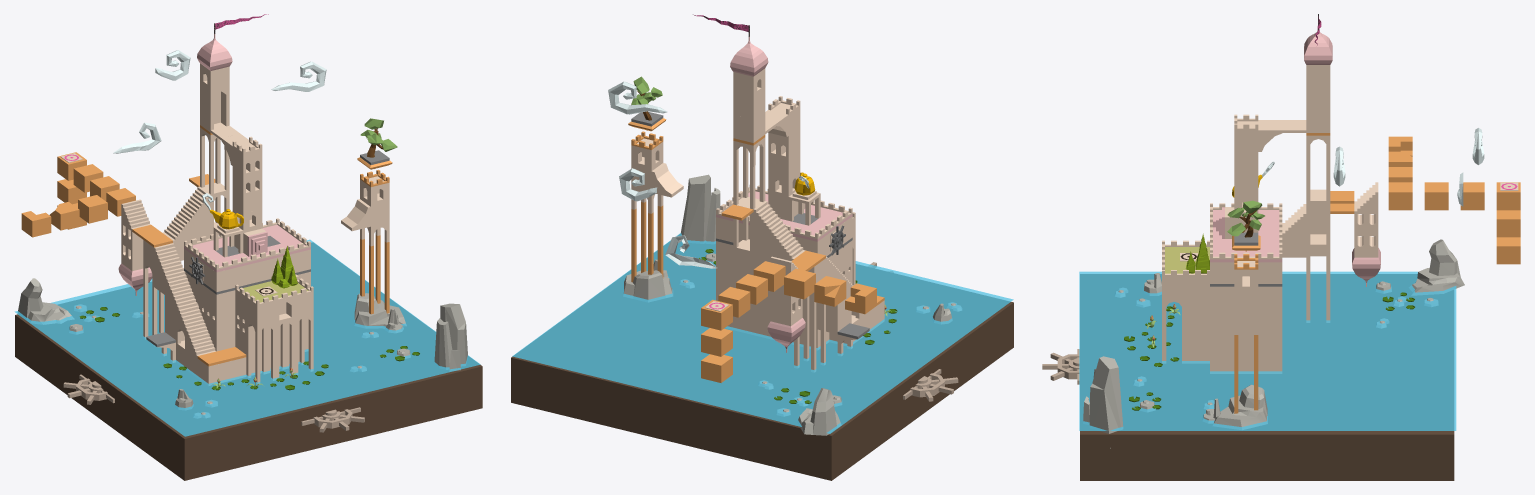
File: Abstract.fbx
3 views of the same model, side by side, from view 1: azimuth 30°, elevation 25°; view 2: azimuth 150°, elevation 25°; view 3: azimuth 270°, elevation 25° (orthographic). The views are drawn at different scales.
Visible parts, largest first — view 1: Cube, LowPolyWaterv2, Abstract_Modular_Penrose_Triangle_Beige_01, Rock_Large_17, Rock_Large_16, Abstract_Modular_Window_Dual_Archway_Dual_2.0_Beige_01, Rock_Large_15, Abstract_Modular_Window_Dual_Archway_Dual_2.0_Beige_01 (1), Prop_Vault_Handle_Lock_Metal_01 (1), Abstract_Modular_Roof_1.0_Beige_01, Prop_Vault_Handle_Lock_Metal_01 (2), Cloud_Wisp_02 (+24 smaller); view 2: Cube, LowPolyWaterv2, Abstract_Modular_Penrose_Triangle_Beige_01, Rock_Large_17, Rock_Large_16, Rock_Large_15, Abstract_Modular_Window_Dual_Archway_Dual_2.0_Beige_01, Abstract_Modular_Window_Dual_Archway_Dual_2.0_Beige_01 (1), Abstract_Modular_Roof_1.0_Beige_01, Prop_Vault_Handle_Lock_Metal_01 (2), Cloud_Wisp_02, Abstract_Modular_Window_Quad_1.0_Beige_02 (+18 smaller); view 3: Cube, LowPolyWaterv2, Abstract_Modular_Penrose_Triangle_Beige_01, Rock_Large_17, Rock_Large_16, Rock_Large_15, Abstract_Modular_Window_Dual_Archway_Dual_2.0_Beige_01, Abstract_Modular_Window_Dual_Archway_Dual_2.0_Beige_01 (1), Vegetation_Tree_Asian_04, Abstract_Modular_Roof_1.0_Beige_01, Prop_Vault_Handle_Lock_Metal_01 (1), Abstract_Modular_Window_Quad_1.0_Beige_02 (+26 smaller).
Boxes of the visible parts, bbox=[...] form: Cube: bbox=[15, 243, 482, 480]; LowPolyWaterv2: bbox=[14, 239, 480, 436]; Abstract_Modular_Penrose_Triangle_Beige_01: bbox=[21, 152, 135, 237]; Rock_Large_17: bbox=[434, 303, 467, 371]; Rock_Large_16: bbox=[18, 278, 73, 324]; Abstract_Modular_Window_Dual_Archway_Dual_2.0_Beige_01: bbox=[232, 142, 262, 193]; Rock_Large_15: bbox=[354, 293, 406, 328]; Abstract_Modular_Window_Dual_Archway_Dual_2.0_Beige_01 (1): bbox=[121, 224, 143, 270]; Prop_Vault_Handle_Lock_Metal_01 (1): bbox=[301, 407, 364, 432]; Abstract_Modular_Roof_1.0_Beige_01: bbox=[197, 34, 232, 70]; Prop_Vault_Handle_Lock_Metal_01 (2): bbox=[63, 374, 114, 404]; Cloud_Wisp_02: bbox=[271, 61, 326, 91]; Cube: bbox=[511, 234, 1013, 480]; LowPolyWaterv2: bbox=[512, 233, 1013, 433]; Abstract_Modular_Penrose_Triangle_Beige_01: bbox=[701, 261, 876, 382]; Rock_Large_17: bbox=[681, 174, 720, 243]; Rock_Large_16: bbox=[797, 388, 840, 435]; Rock_Large_15: bbox=[623, 270, 672, 301]; Abstract_Modular_Window_Dual_Archway_Dual_2.0_Beige_01: bbox=[768, 103, 800, 156]; Abstract_Modular_Window_Dual_Archway_Dual_2.0_Beige_01 (1): bbox=[770, 285, 802, 326]; Abstract_Modular_Roof_1.0_Beige_01: bbox=[730, 37, 768, 76]; Prop_Vault_Handle_Lock_Metal_01 (2): bbox=[903, 369, 958, 401]; Cloud_Wisp_02: bbox=[608, 81, 667, 114]; Abstract_Modular_Window_Quad_1.0_Beige_02: bbox=[631, 138, 663, 171]; Cube: bbox=[1080, 274, 1454, 480]; LowPolyWaterv2: bbox=[1079, 271, 1456, 430]; Abstract_Modular_Penrose_Triangle_Beige_01: bbox=[1388, 136, 1520, 264]; Rock_Large_17: bbox=[1083, 356, 1123, 448]; Rock_Large_16: bbox=[1409, 239, 1464, 295]; Rock_Large_15: bbox=[1213, 384, 1267, 429]; Abstract_Modular_Window_Dual_Archway_Dual_2.0_Beige_01: bbox=[1234, 121, 1258, 173]; Abstract_Modular_Window_Dual_Archway_Dual_2.0_Beige_01 (1): bbox=[1354, 214, 1378, 257]; Vegetation_Tree_Asian_04: bbox=[1227, 200, 1264, 237]; Abstract_Modular_Roof_1.0_Beige_01: bbox=[1304, 31, 1332, 64]; Prop_Vault_Handle_Lock_Metal_01 (1): bbox=[1042, 349, 1079, 384]; Abstract_Modular_Window_Quad_1.0_Beige_02: bbox=[1234, 261, 1258, 291].
Bounding box in the file's own units: 52.16 × 52.4 × 59.72.
